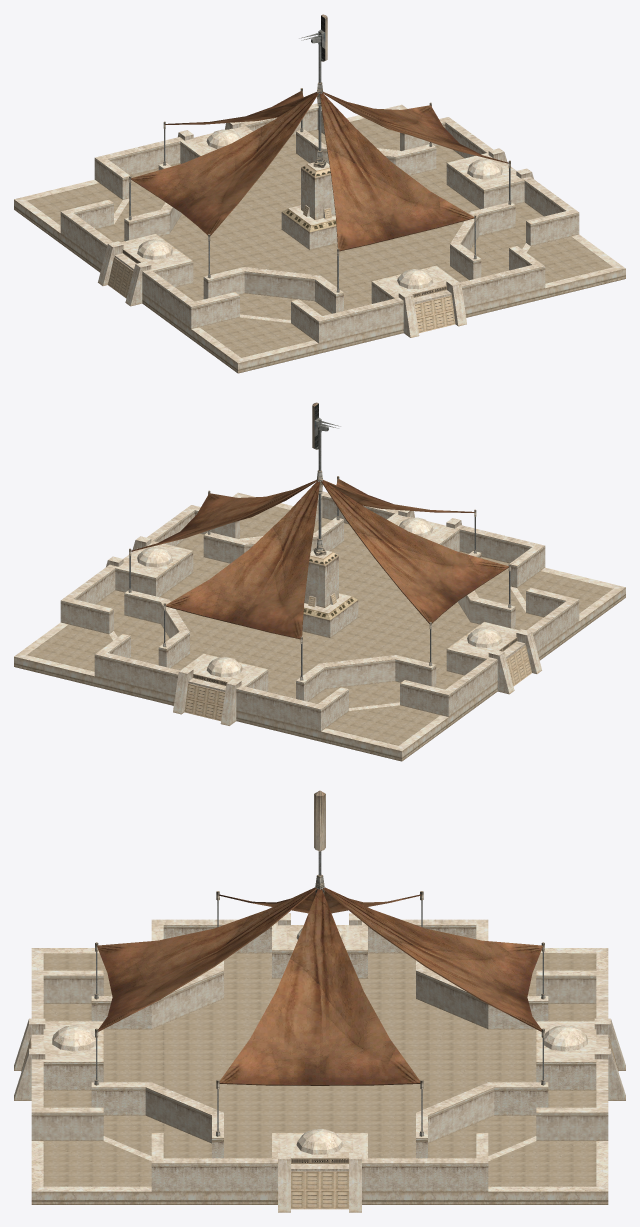
File: mun_tato_bank_s01_l1.fbx
The picture shows the model from 3 angles, top to bottom: view 1: azimuth 30°, elevation 25°; view 2: azimuth 150°, elevation 25°; view 3: azimuth 270°, elevation 25°; orthographic projection. The views are drawn at different scales.
Parts seen in each view (by area): view 1: mesh_node; view 2: mesh_node; view 3: mesh_node.
Boxes of the visible parts, <box> form: mesh_node: <box>14,14,625,373</box>; mesh_node: <box>14,402,625,761</box>; mesh_node: <box>14,790,625,1212</box>.
Size of the model in its own units: 63.68 by 33.84 by 63.68.
5 materials, 5 textured.
